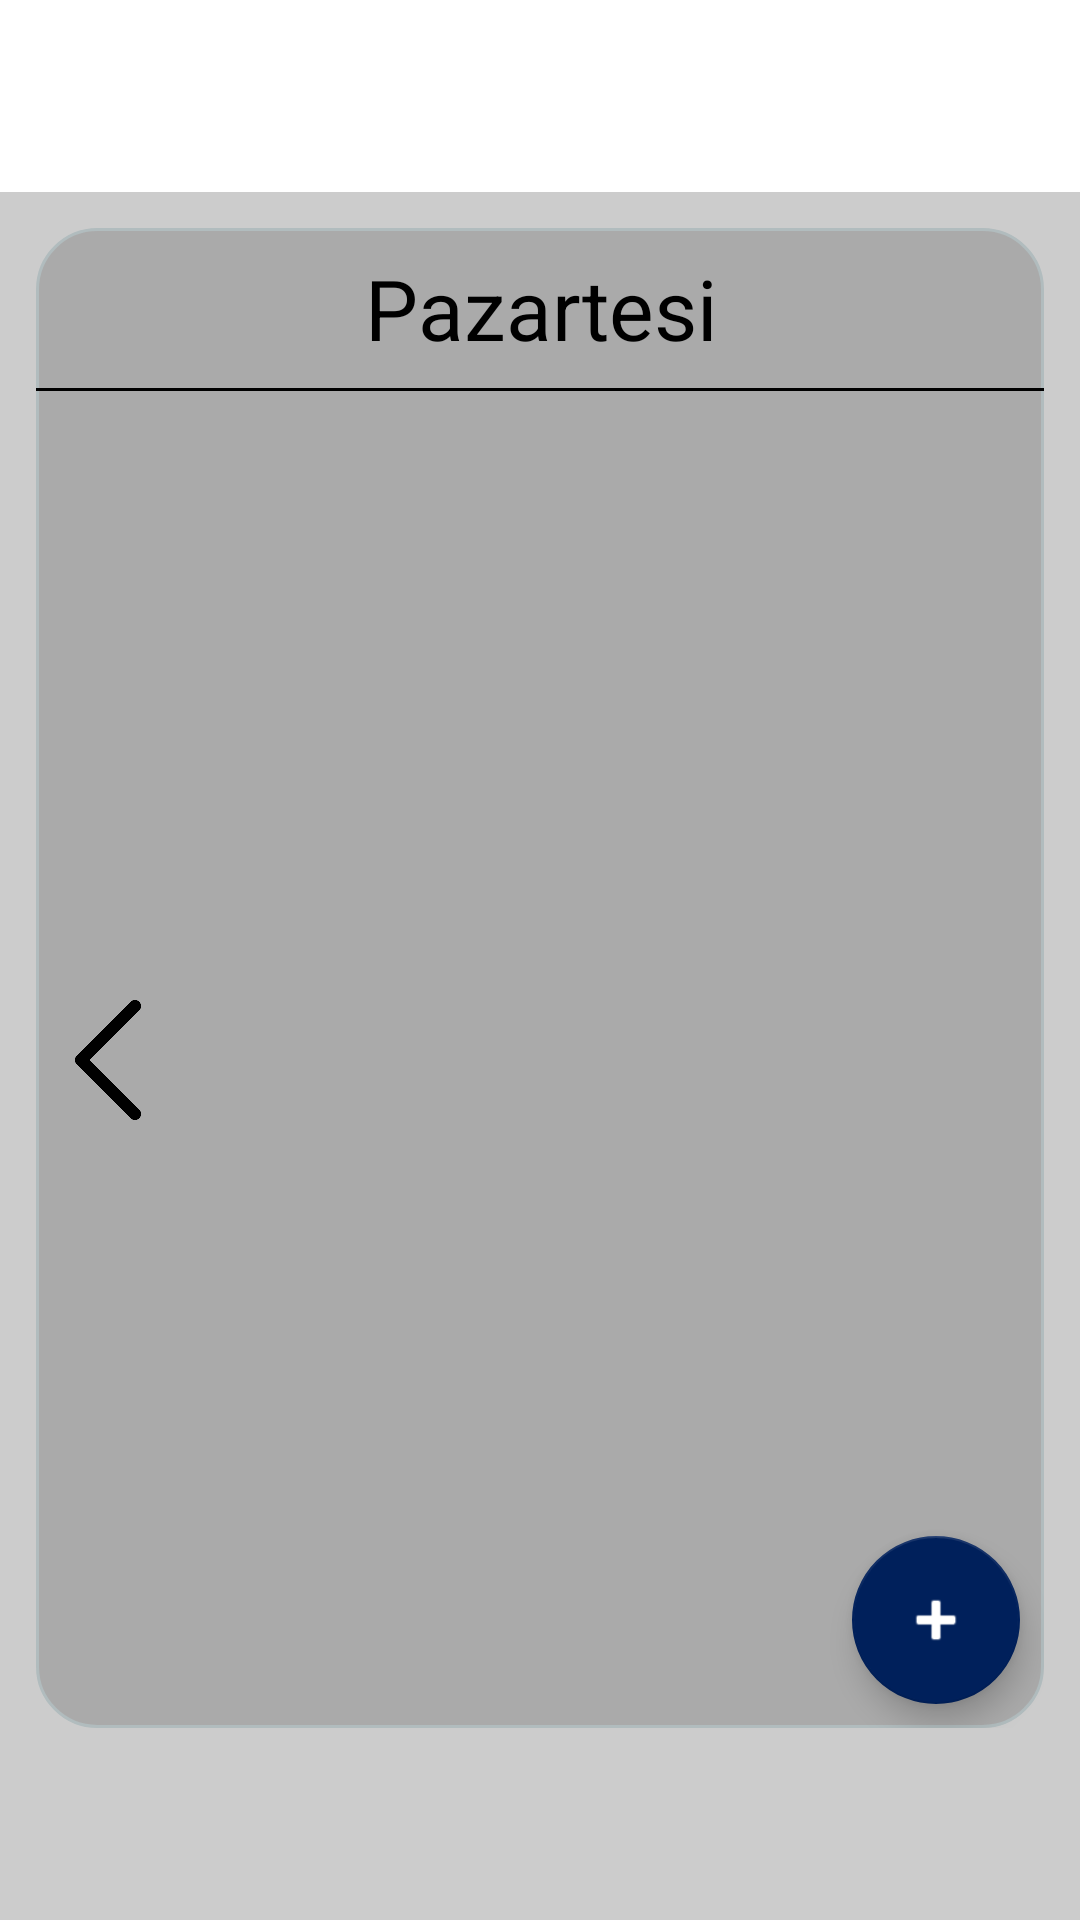

Screen size 1080 x 1920. Icon name, then its center in pixels as (x,y):
Ders Programı Ekle: (936,1620)
Önceki gün: (108,1060)
